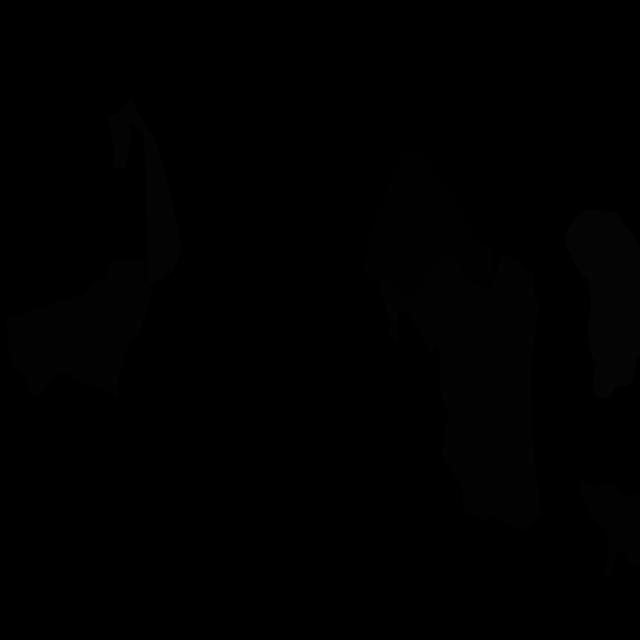cardboard: (378, 253, 540, 532), (6, 258, 152, 397), (580, 481, 640, 576)
metal: (108, 98, 182, 284)
rigid_plastic: (362, 148, 494, 300)
soft_plastic: (564, 209, 640, 399)
